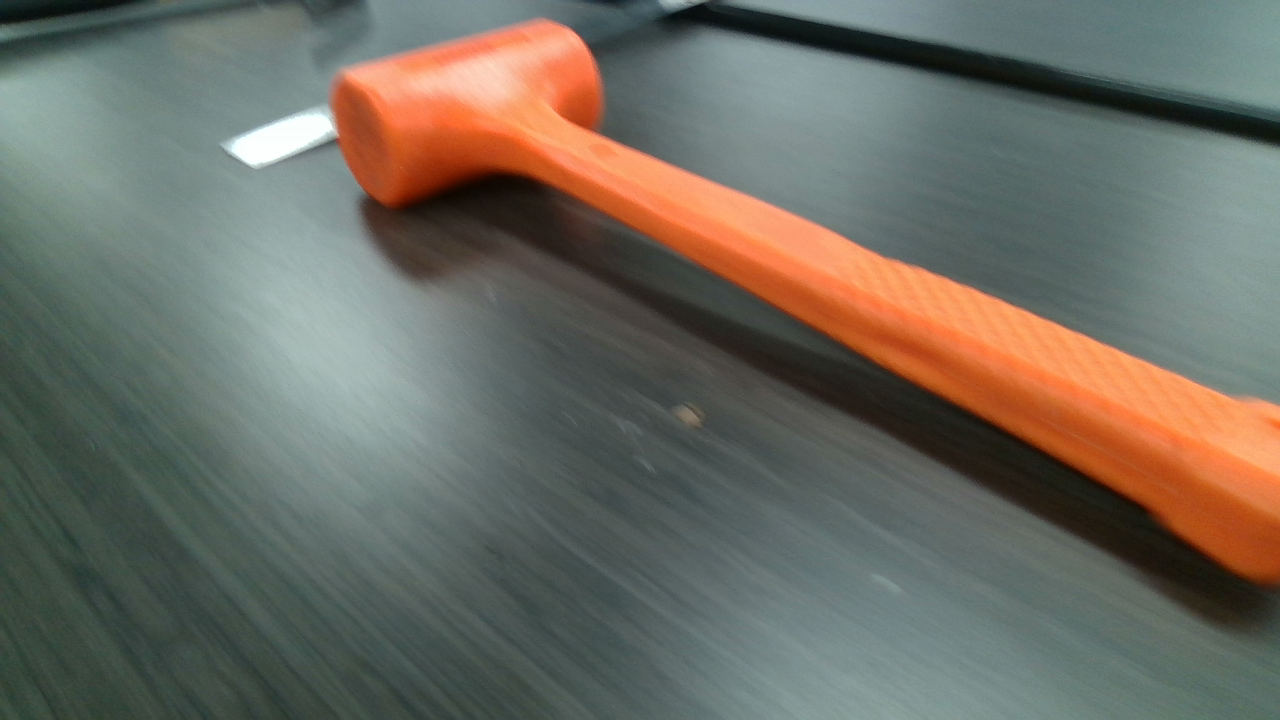Orange Hammer: (338, 15, 1274, 591)
